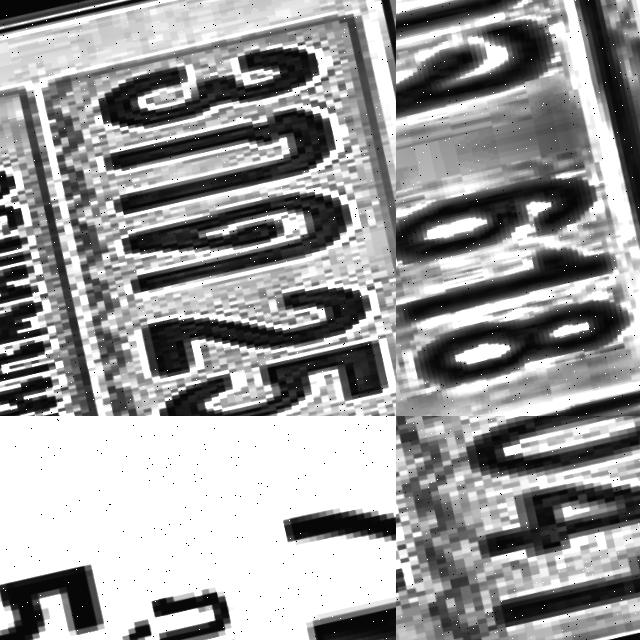license-plate: (0, 0, 396, 416), (396, 0, 640, 416), (0, 416, 396, 640), (396, 416, 640, 640)
